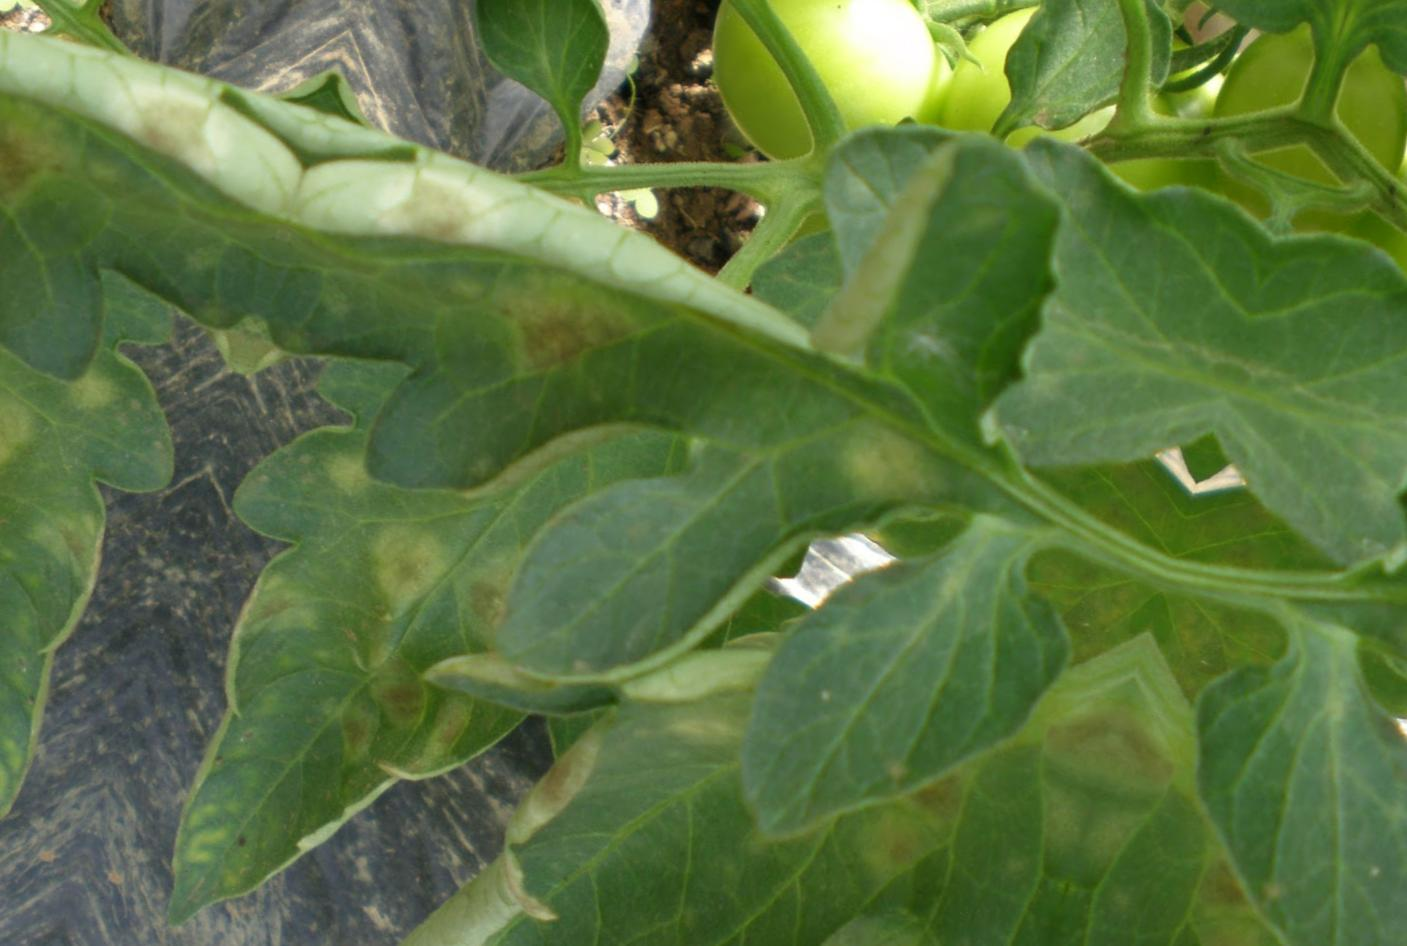Tomato mold leaf: (306, 343, 1177, 946), (122, 344, 744, 946), (230, 102, 955, 601), (952, 129, 1287, 521), (375, 0, 852, 71)
